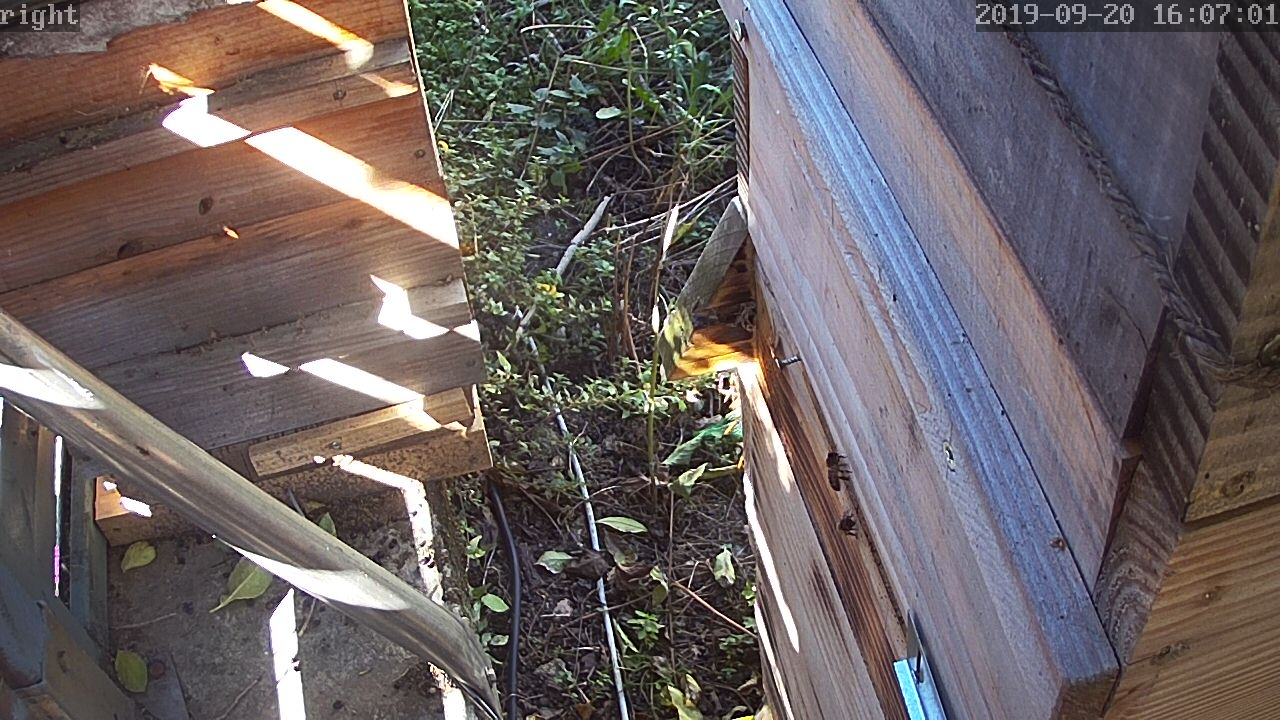bee: (821, 446, 852, 490), (836, 508, 860, 536)
